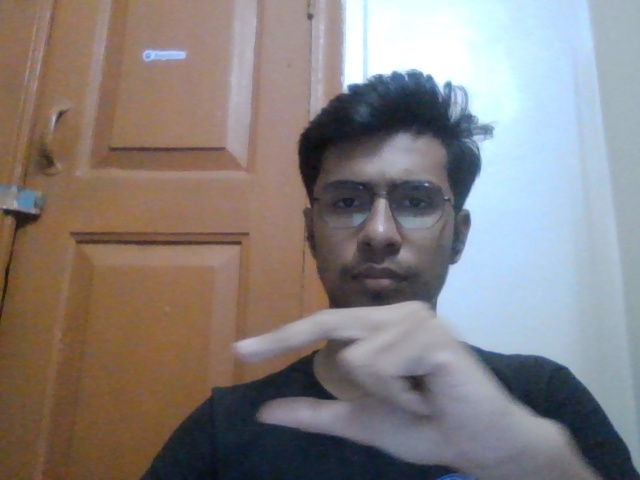No: (223, 294, 506, 465)
